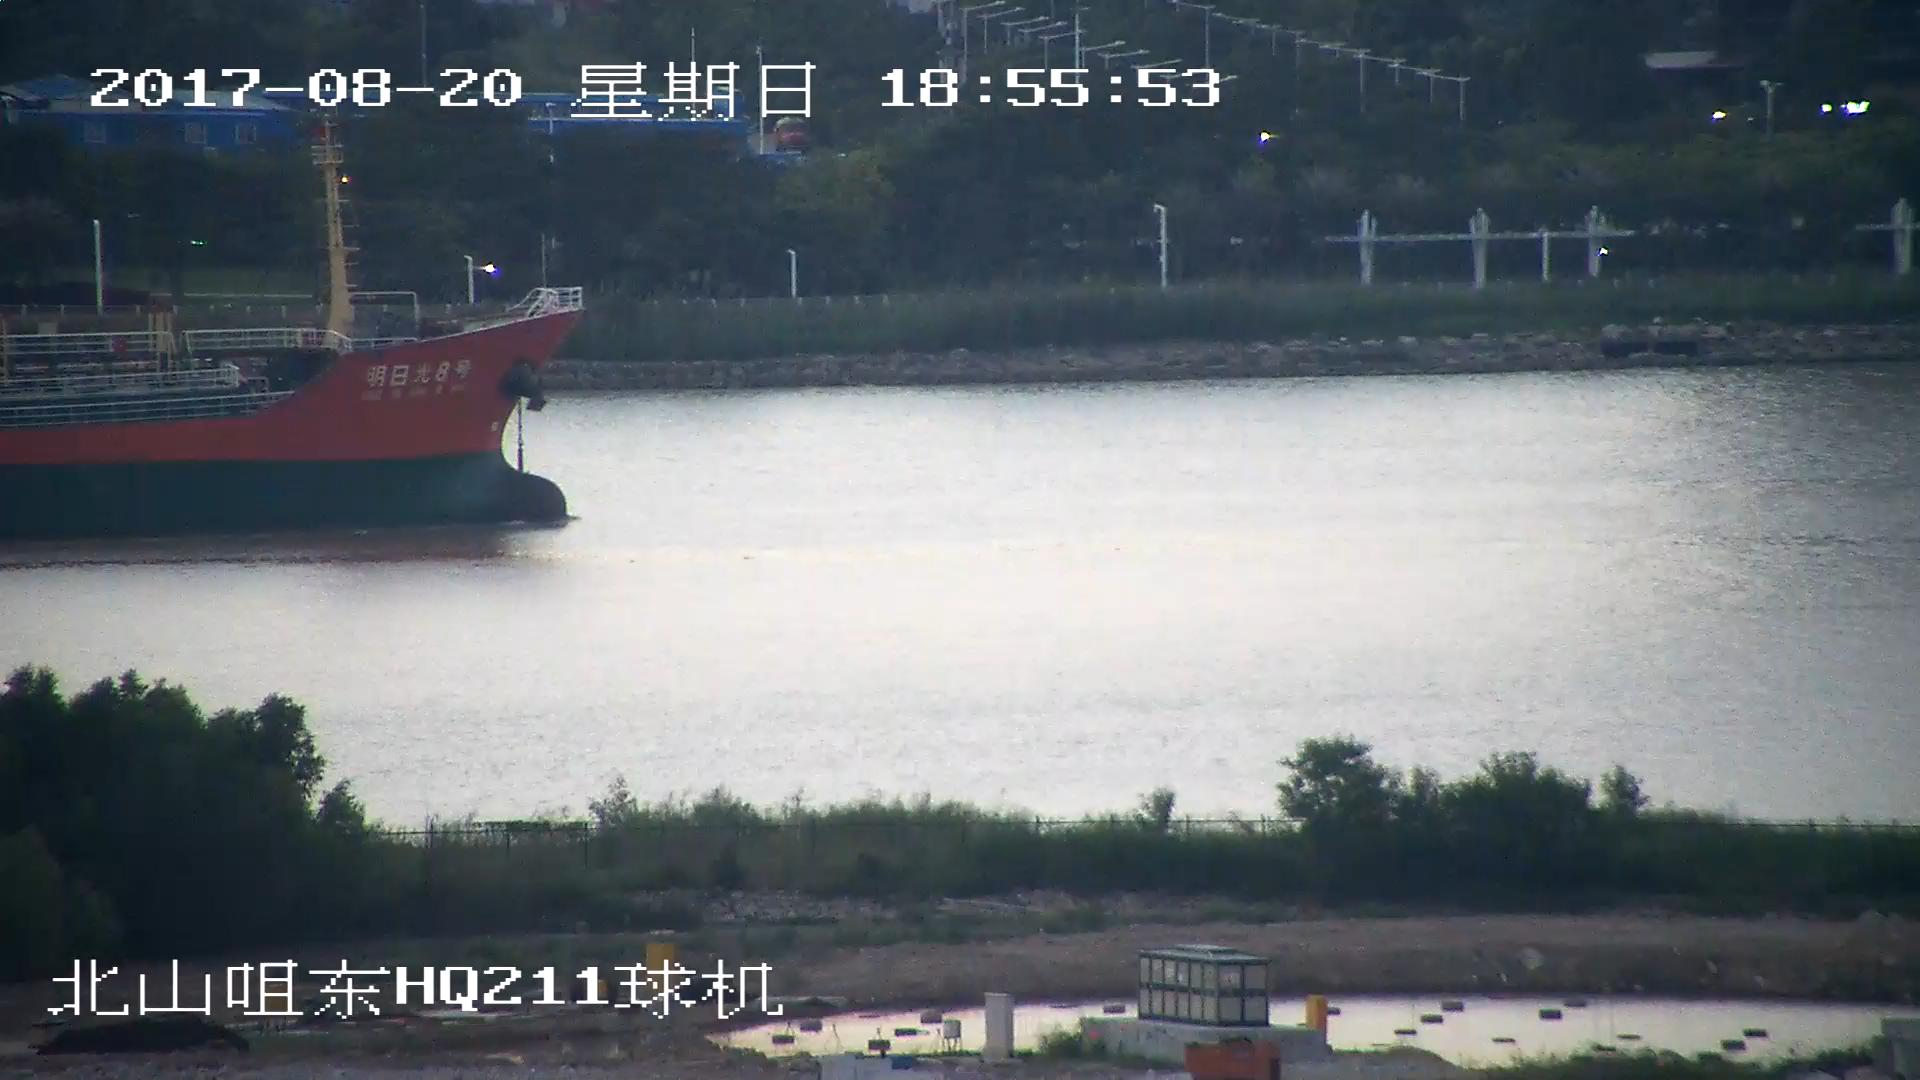general cargo ship: (1, 122, 605, 546)
